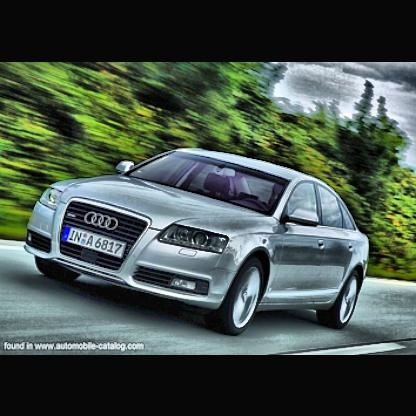Audi S6 Sedan 2011: (17, 133, 385, 355)
